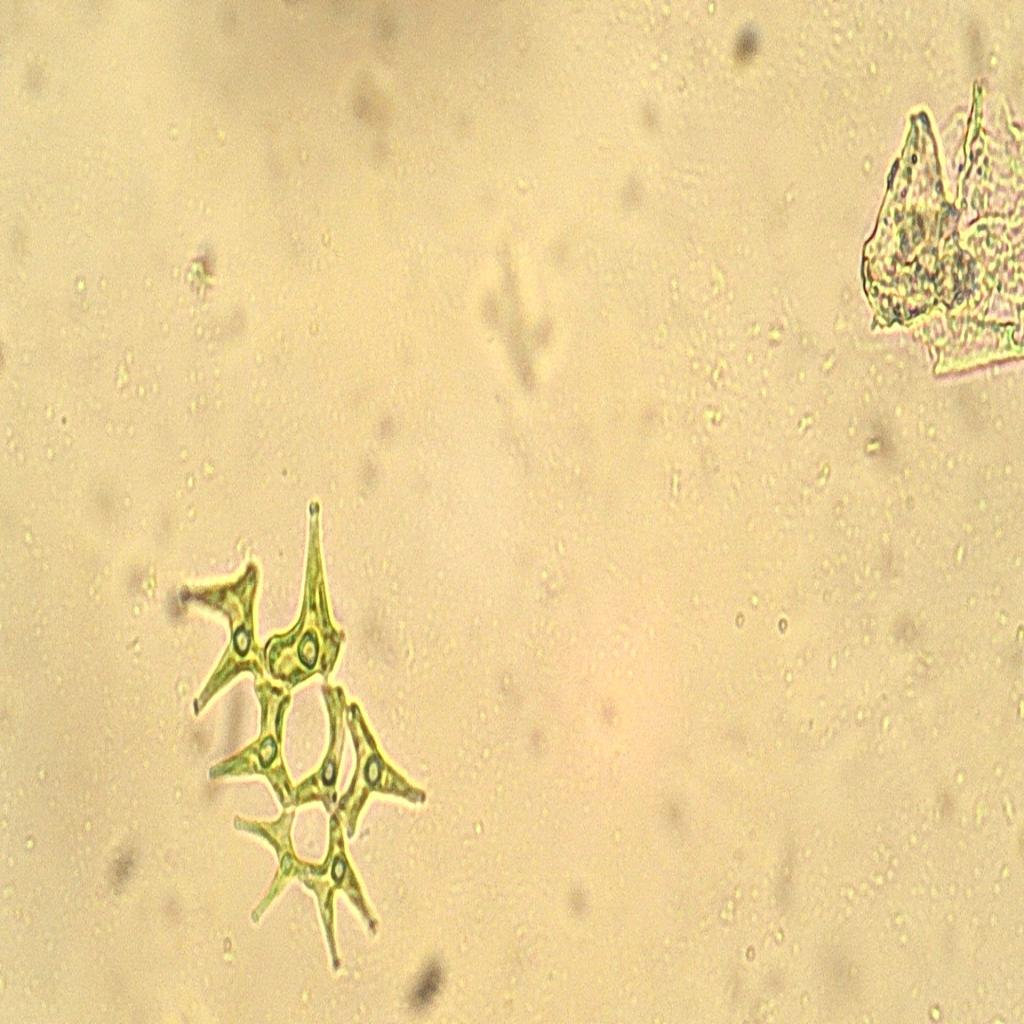Pediastrum_CFI: (171, 488, 438, 988)
